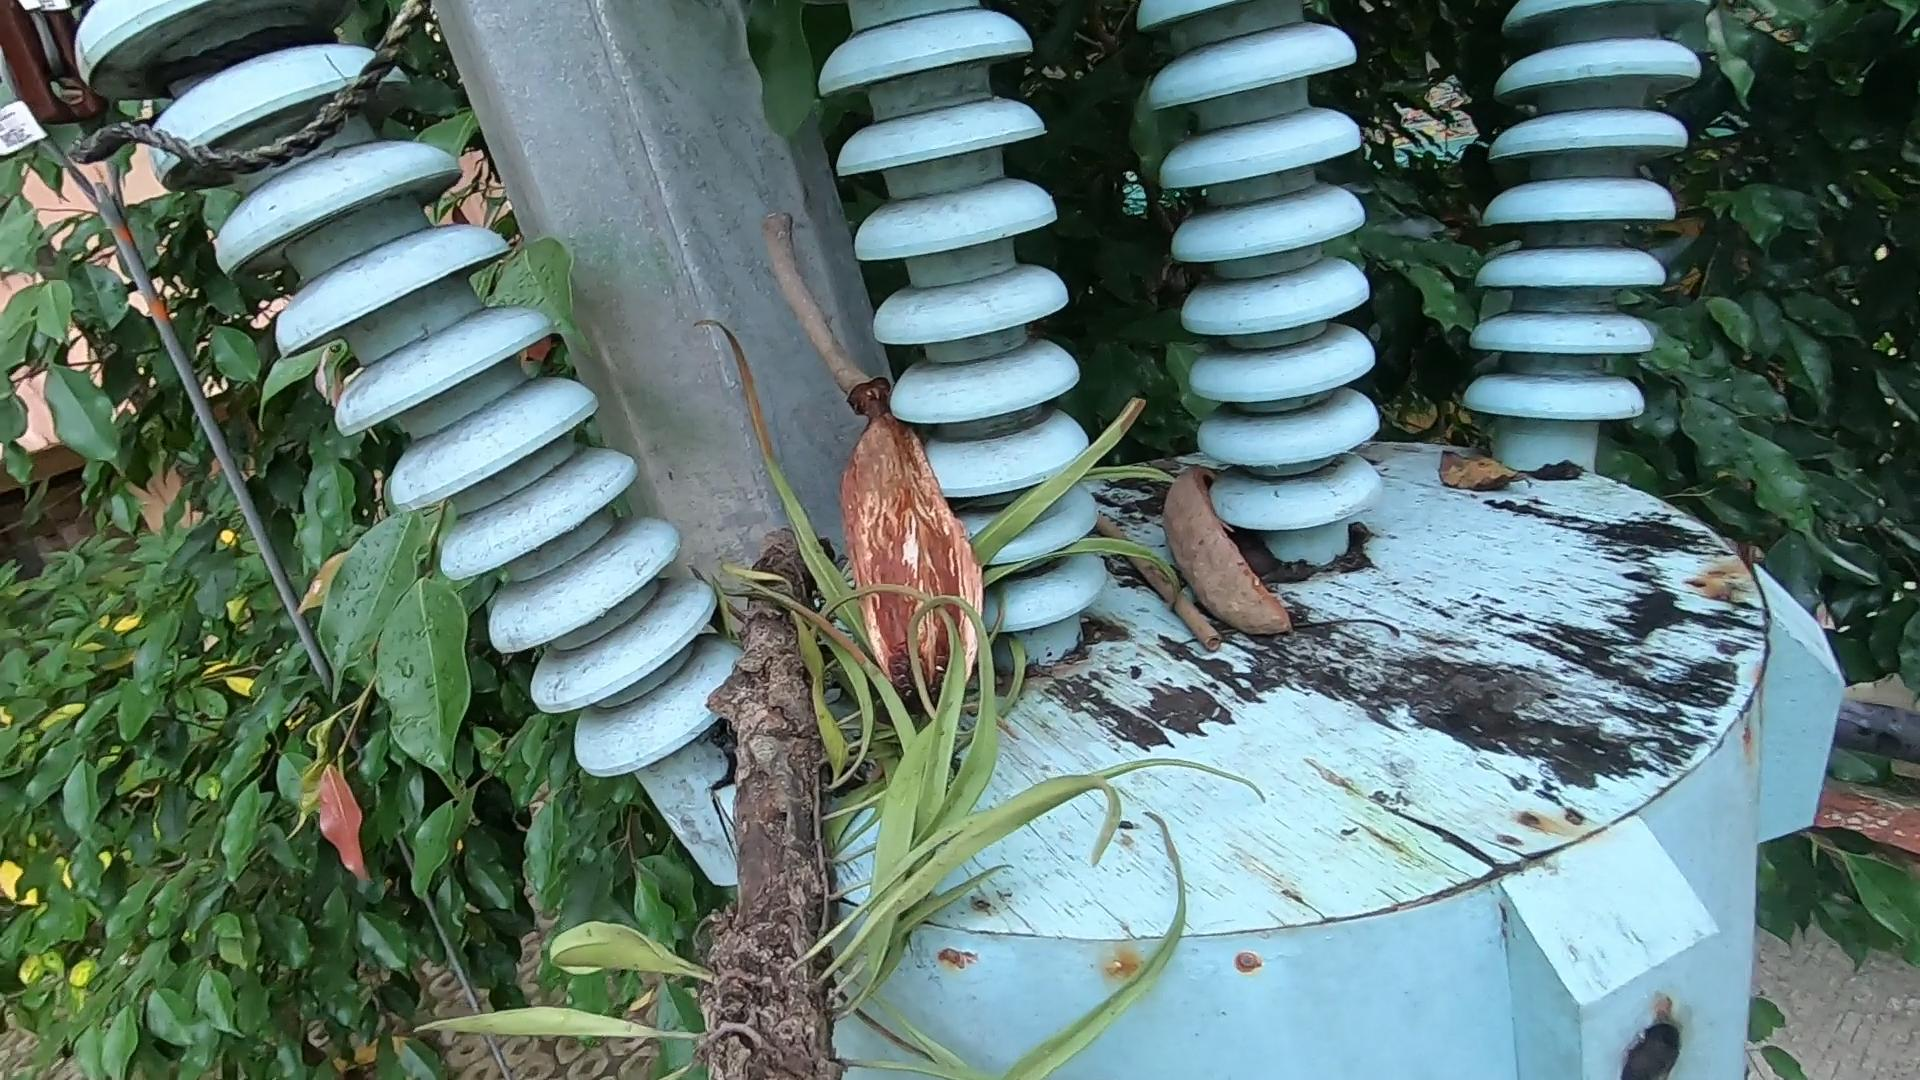branch with leaves: (658, 502, 1259, 1080)
leaf: (1422, 444, 1542, 505)
mahogany fruit: (828, 398, 1089, 761), (1166, 477, 1298, 669)
tree branch: (737, 182, 880, 401), (1079, 488, 1222, 646)
